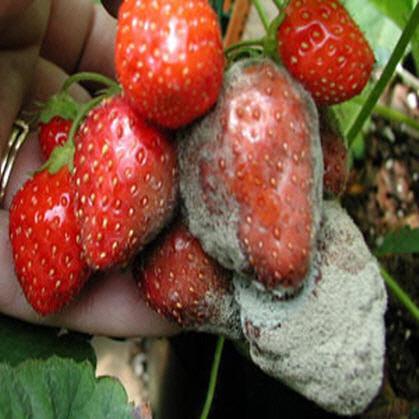Gray Mold: (176, 59, 323, 301), (233, 198, 387, 415), (130, 211, 241, 338), (78, 159, 180, 268)
